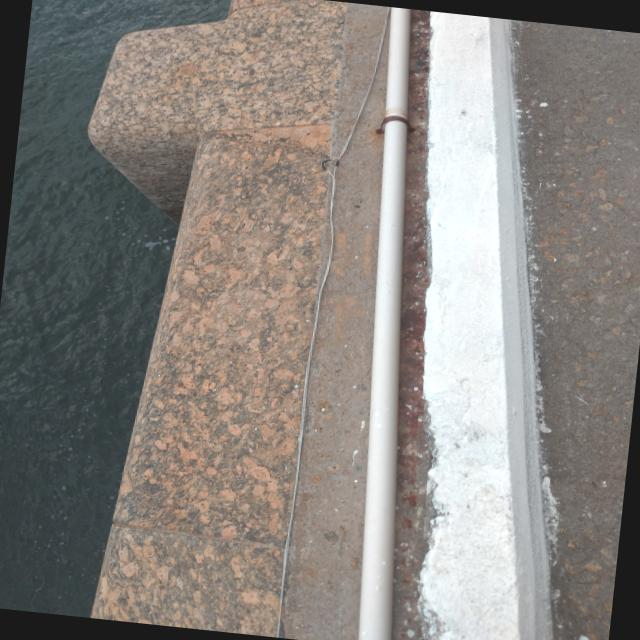gas: (359, 5, 407, 640)
